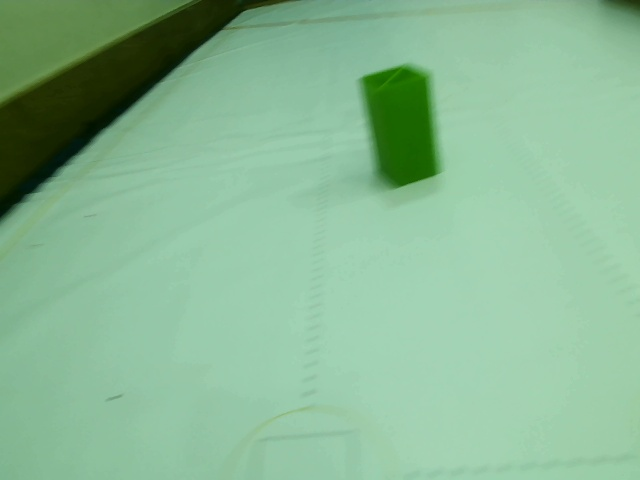green: (363, 67, 441, 179)
